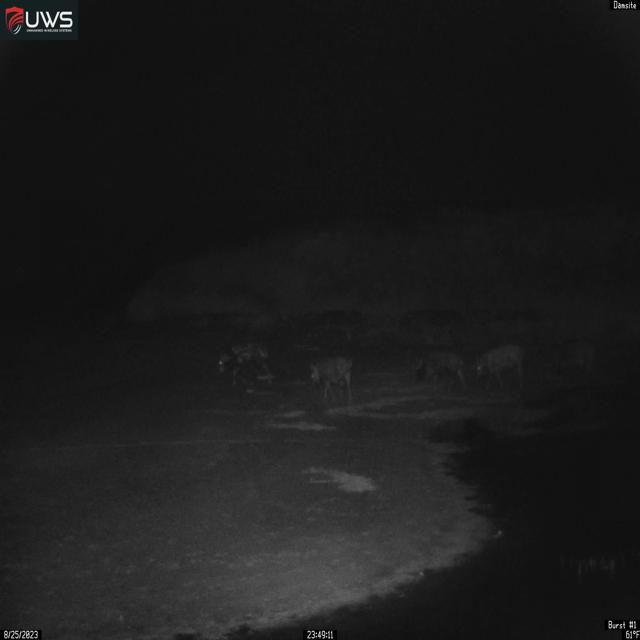pig: (309, 355, 353, 405)
